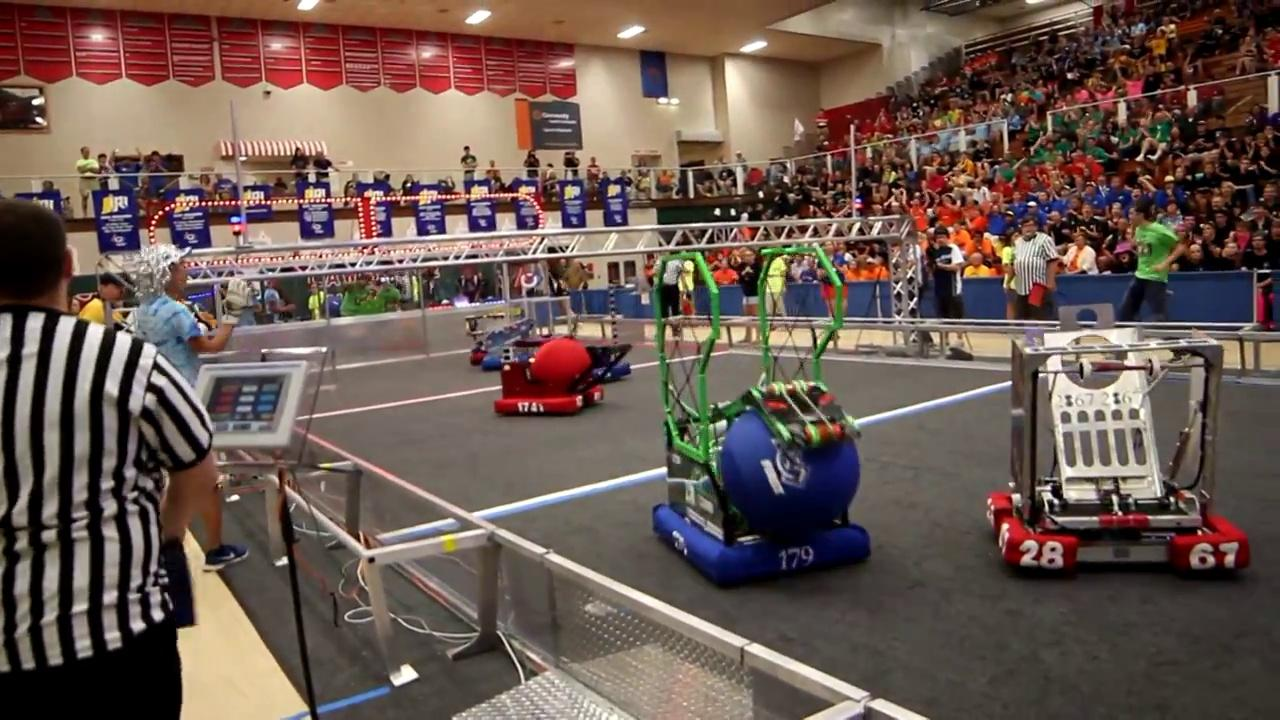robot: (646, 237, 873, 586), (985, 325, 1252, 580), (490, 330, 632, 413), (463, 312, 550, 370)
